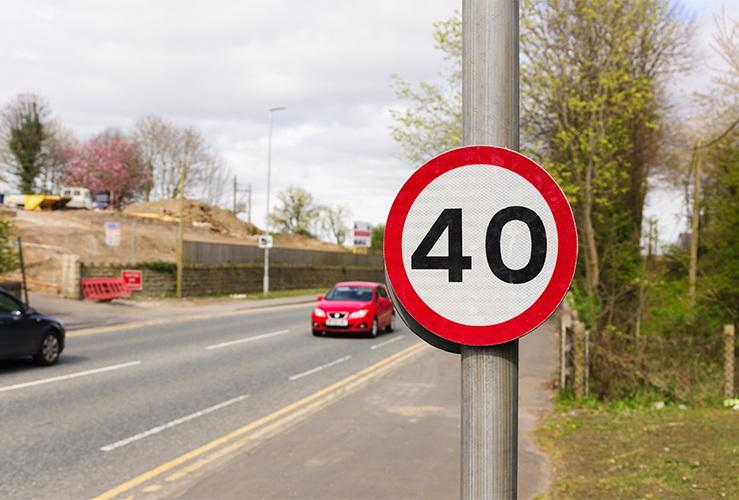speed-limit: (386, 145, 578, 349)
